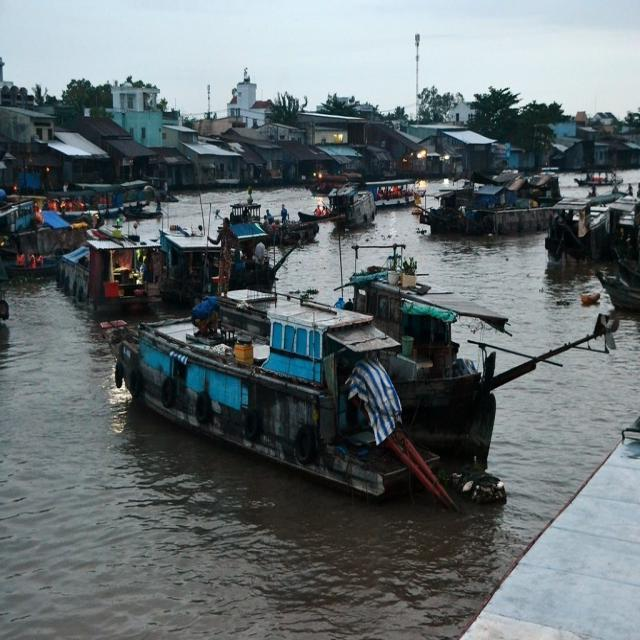boat: (87, 287, 517, 500), (58, 222, 141, 322), (472, 175, 564, 238), (226, 208, 322, 244), (322, 181, 380, 239), (544, 200, 597, 263), (575, 166, 619, 192)
